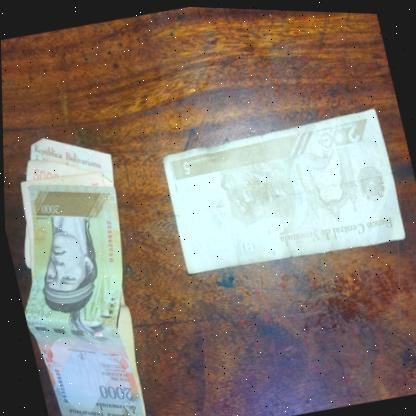five-back-vef: (155, 96, 405, 281)
